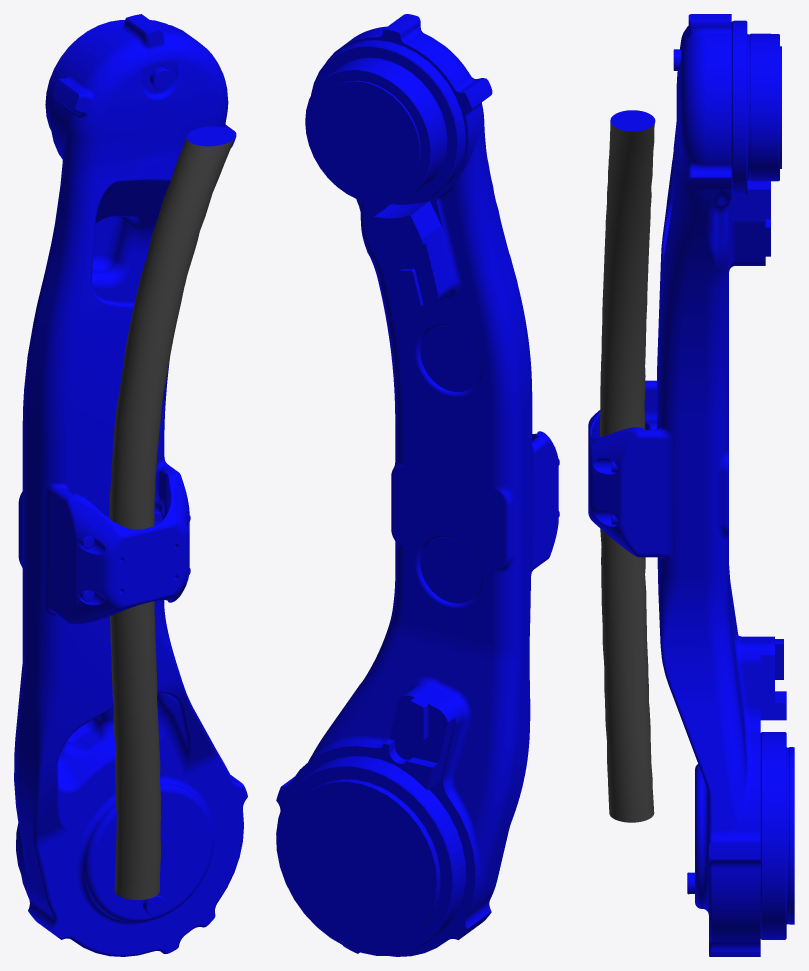
3 views of the same model, side by side, from view 1: azimuth 30°, elevation 25°; view 2: azimuth 150°, elevation 25°; view 3: azimuth 270°, elevation 25° (orthographic).
Visible parts, largest first — view 1: gp12_link_2_l; view 2: gp12_link_2_l; view 3: gp12_link_2_l.
Boxes of the visible parts, left/top/right/bottom form: gp12_link_2_l: left=14, top=14, right=247, bottom=956; gp12_link_2_l: left=276, top=14, right=559, bottom=956; gp12_link_2_l: left=588, top=14, right=794, bottom=956.
Size of the model in its own units: 0.1964 by 0.1575 by 0.7813.
